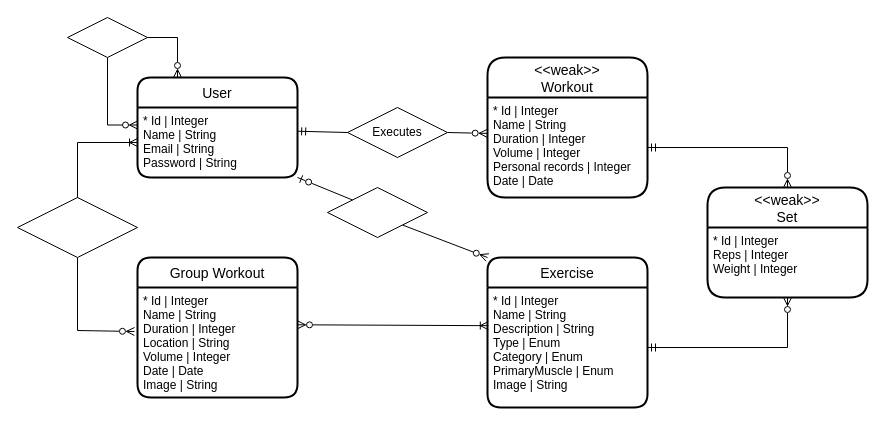
Image size: 886x426. Some labels were removed from this diagram. The shapes that lost their labels are listed below. From the top down, each one's centre as x and y in pixels, then its label:
pixel 107 37: Follows
pixel 77 227: Particpates in
pixel 377 212: Creates
